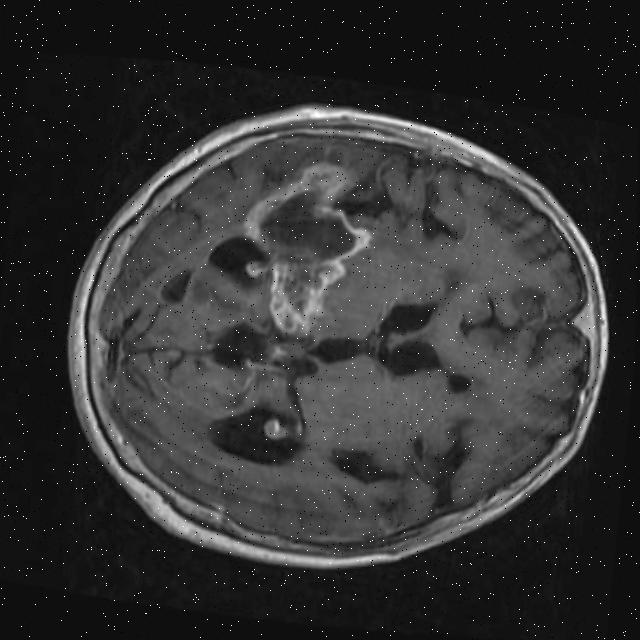Glioma: (238, 152, 381, 267), (260, 251, 348, 343)
